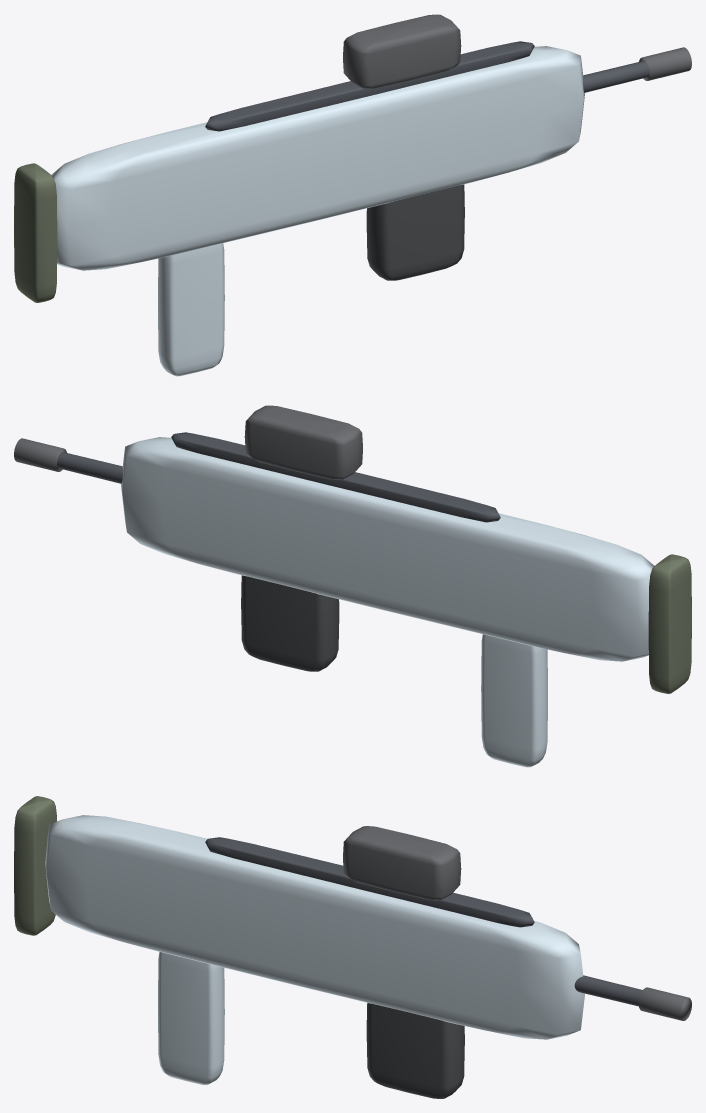
The model's file is fort221-gls.glb.
The picture shows the model from 3 angles, top to bottom: view 1: azimuth 30°, elevation 25°; view 2: azimuth 150°, elevation 25°; view 3: azimuth 330°, elevation 25°; orthographic projection.
Visible parts, largest first — view 1: chassis_bullpup, stanag_mag, pistol_grip_guard, reflex_optic, buttpad, top_rail, barrel_460mm, flash_hider; view 2: chassis_bullpup, stanag_mag, pistol_grip_guard, reflex_optic, buttpad, top_rail, barrel_460mm, flash_hider; view 3: chassis_bullpup, stanag_mag, pistol_grip_guard, reflex_optic, top_rail, buttpad, flash_hider, barrel_460mm.
Part boxes in pixels (<box>): chassis_bullpup: <box>51,46,584,270</box>; stanag_mag: <box>158,243,224,376</box>; pistol_grip_guard: <box>366,184,464,280</box>; reflex_optic: <box>343,14,461,88</box>; buttpad: <box>14,163,57,302</box>; top_rail: <box>205,41,534,131</box>; barrel_460mm: <box>583,61,648,92</box>; flash_hider: <box>639,47,691,80</box>; chassis_bullpup: <box>121,437,654,661</box>; stanag_mag: <box>481,634,547,767</box>; pistol_grip_guard: <box>241,575,339,671</box>; reflex_optic: <box>244,405,362,479</box>; buttpad: <box>648,554,691,693</box>; top_rail: <box>171,432,500,522</box>; barrel_460mm: <box>57,452,122,483</box>; flash_hider: <box>14,438,66,471</box>; chassis_bullpup: <box>45,815,584,1039</box>; stanag_mag: <box>158,952,224,1085</box>; pistol_grip_guard: <box>366,1003,464,1098</box>; reflex_optic: <box>343,826,461,900</box>; top_rail: <box>205,837,534,927</box>; buttpad: <box>14,796,56,935</box>; flash_hider: <box>638,987,691,1020</box>; barrel_460mm: <box>574,975,642,1006</box>.
Size of the model in its own units: 0.723 by 0.3025 by 0.048.
